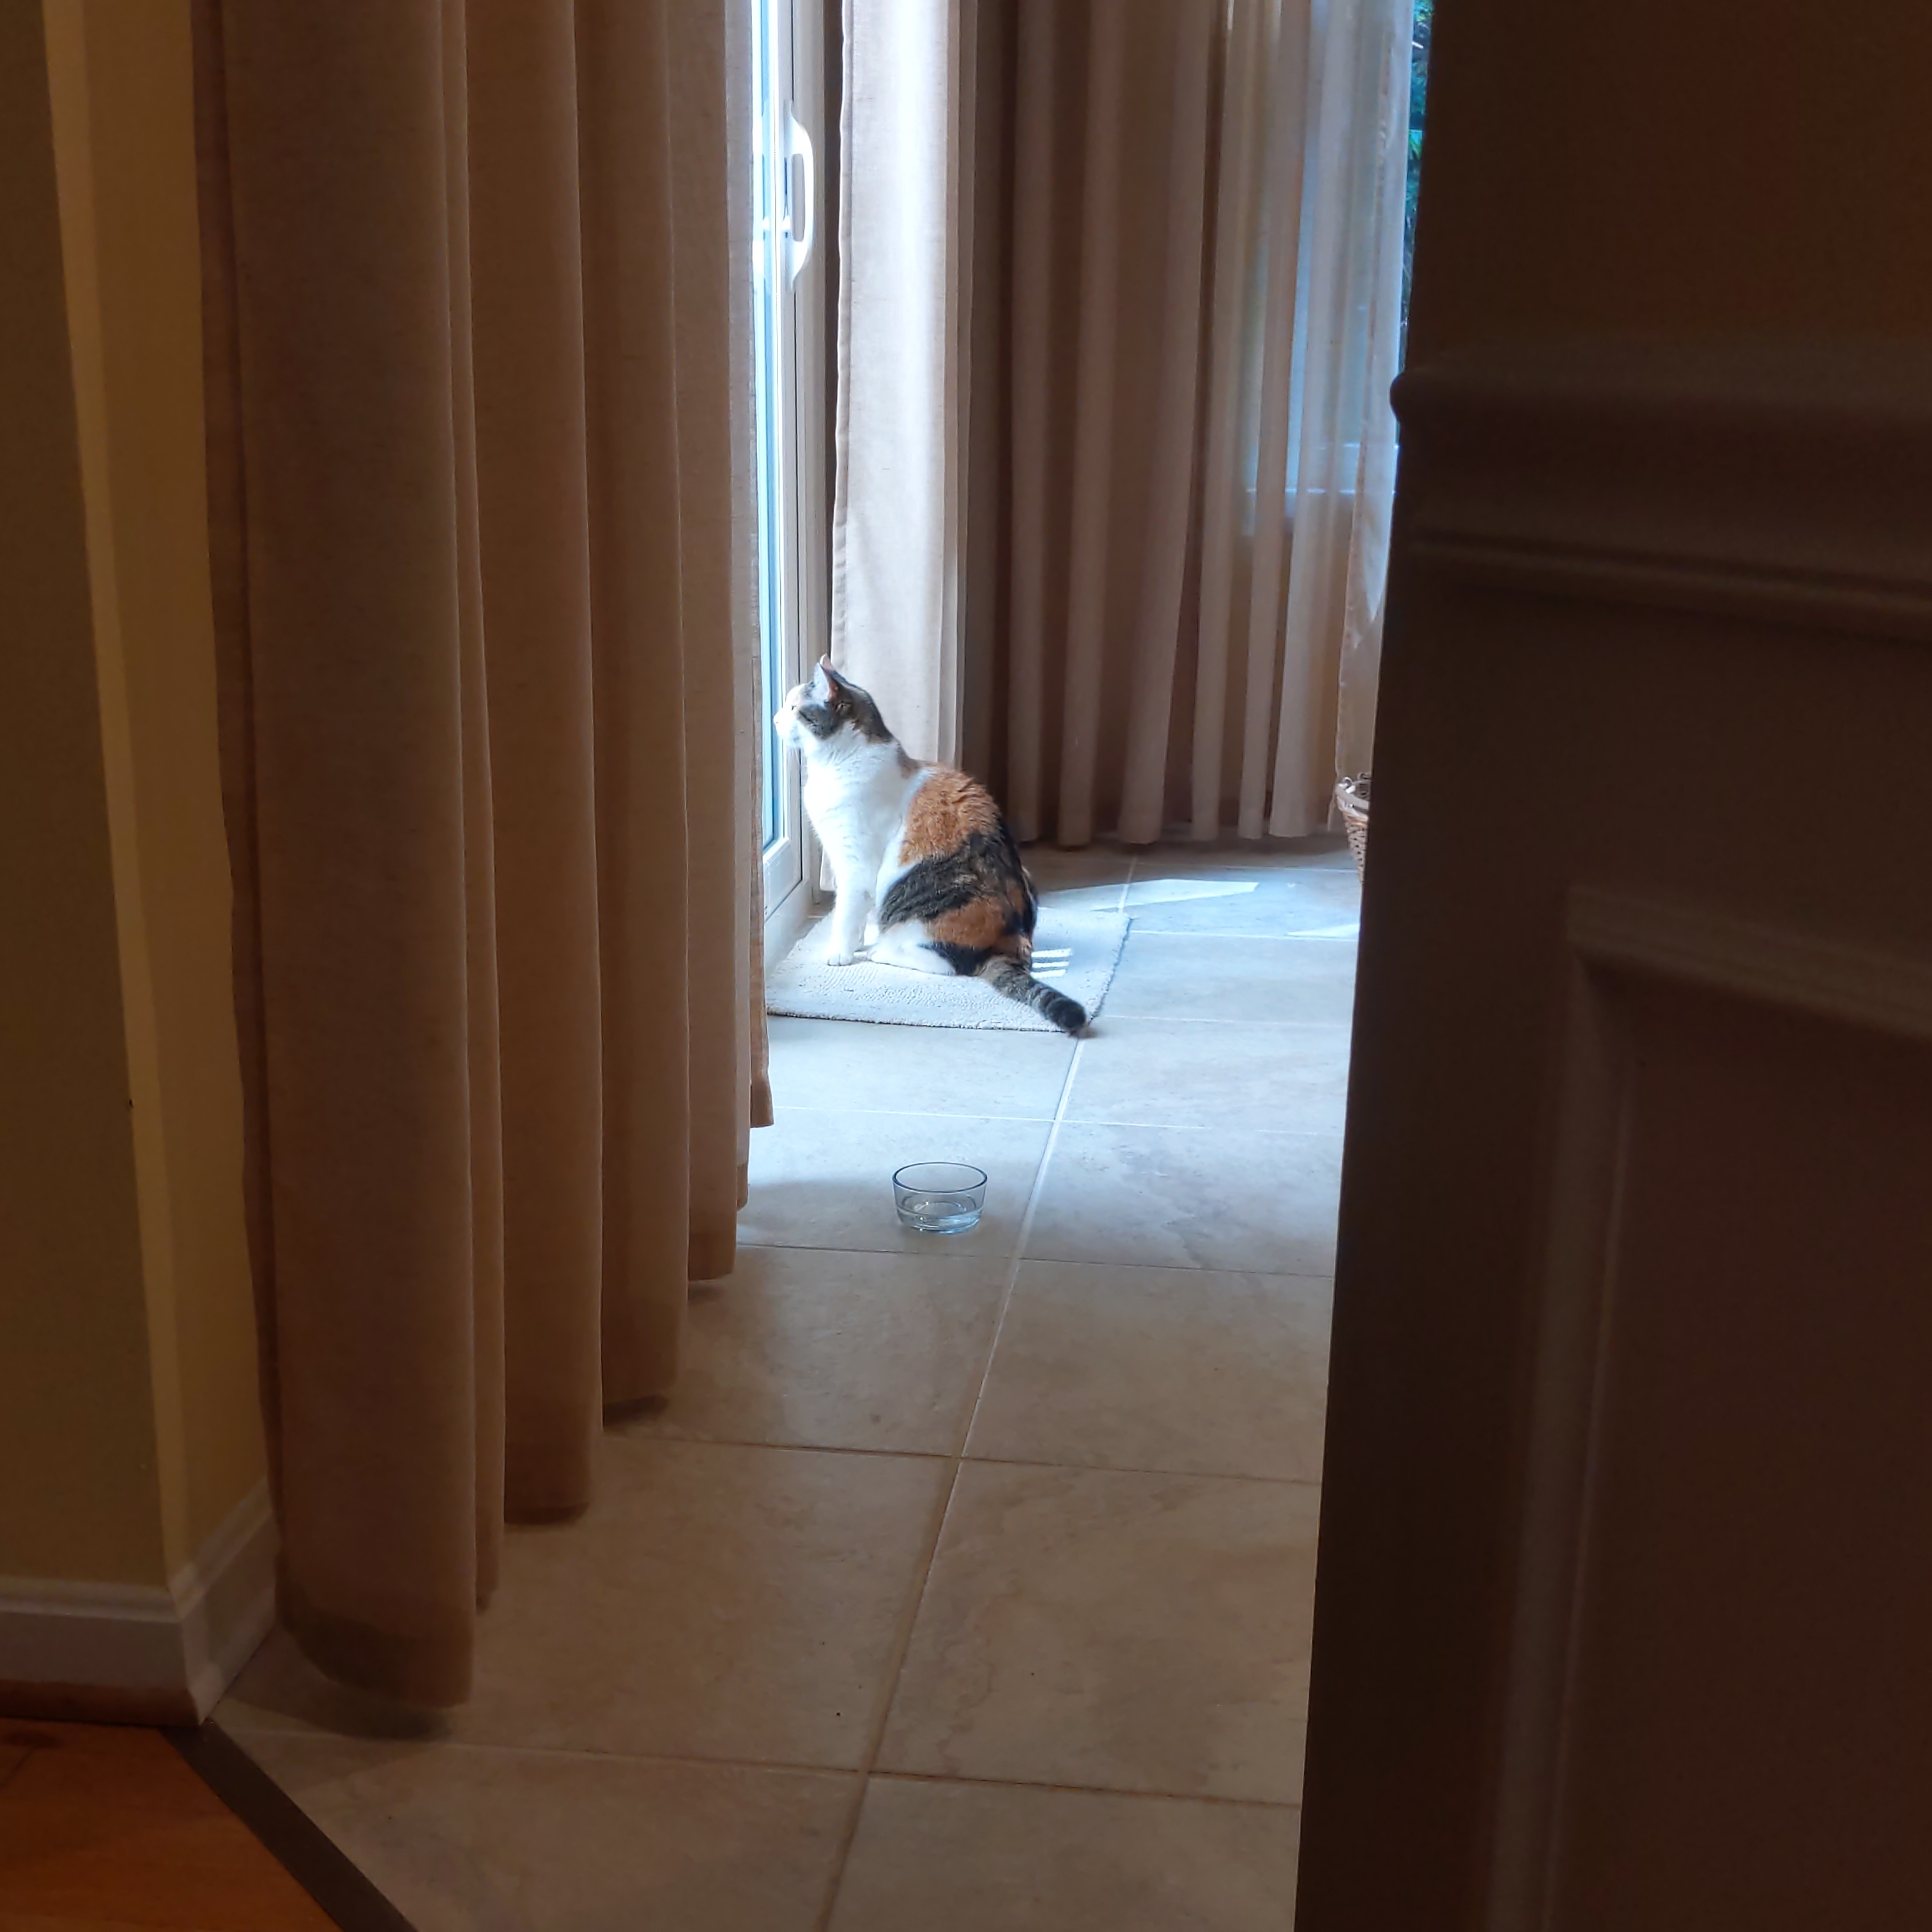Calico: (773, 655, 1086, 1035)
